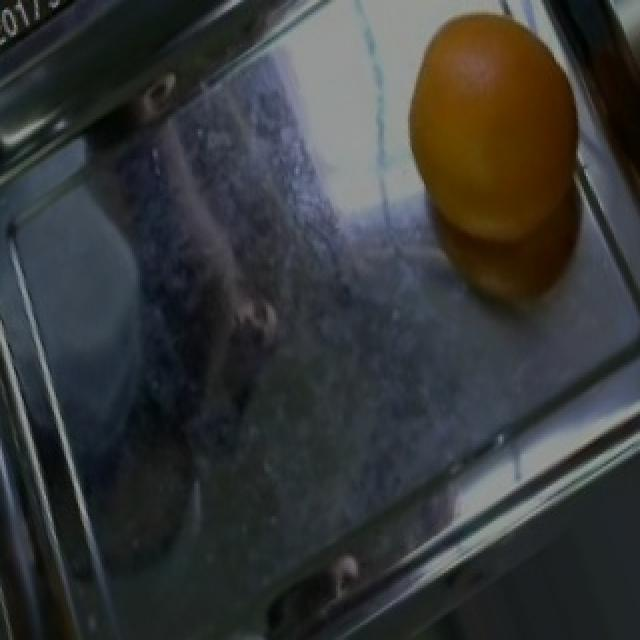Fruit: (386, 0, 602, 268)
